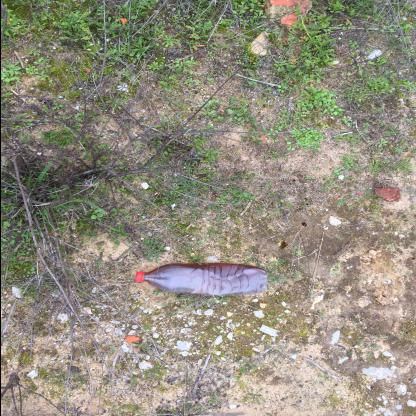plastik: (136, 263, 268, 297)
